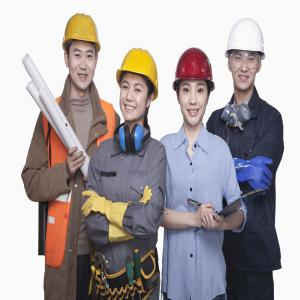red: (174, 47, 215, 128)
white: (225, 18, 267, 96)
yellow: (116, 48, 161, 127), (62, 12, 103, 94)
